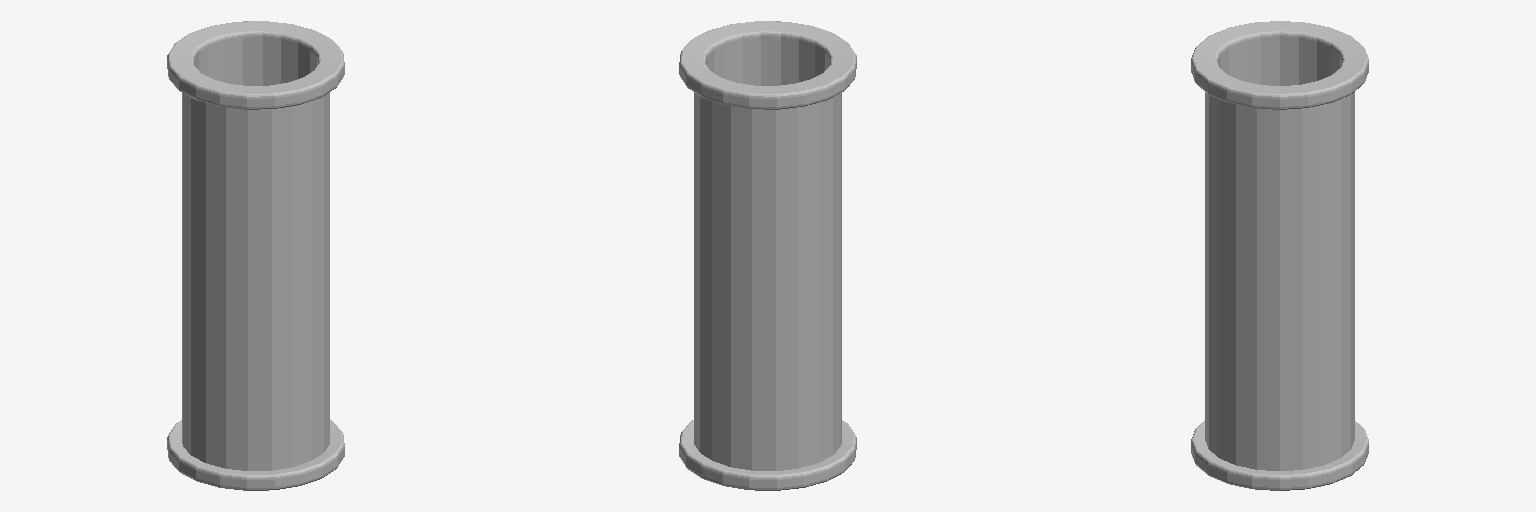
Rendered from pipe_03.obj.
The picture shows the model from 3 angles: view 1: azimuth 30°, elevation 25°; view 2: azimuth 150°, elevation 25°; view 3: azimuth 270°, elevation 25°; orthographic projection.
Parts seen in each view (by area): view 1: pipe_01_Mesh4; view 2: pipe_01_Mesh4; view 3: pipe_01_Mesh4.
Part boxes in pixels (bbox=[...]): pipe_01_Mesh4: bbox=[167, 21, 344, 490]; pipe_01_Mesh4: bbox=[679, 21, 856, 490]; pipe_01_Mesh4: bbox=[1191, 21, 1368, 490].
Bounding box in the file's own units: 1.71 × 4.19 × 1.71.